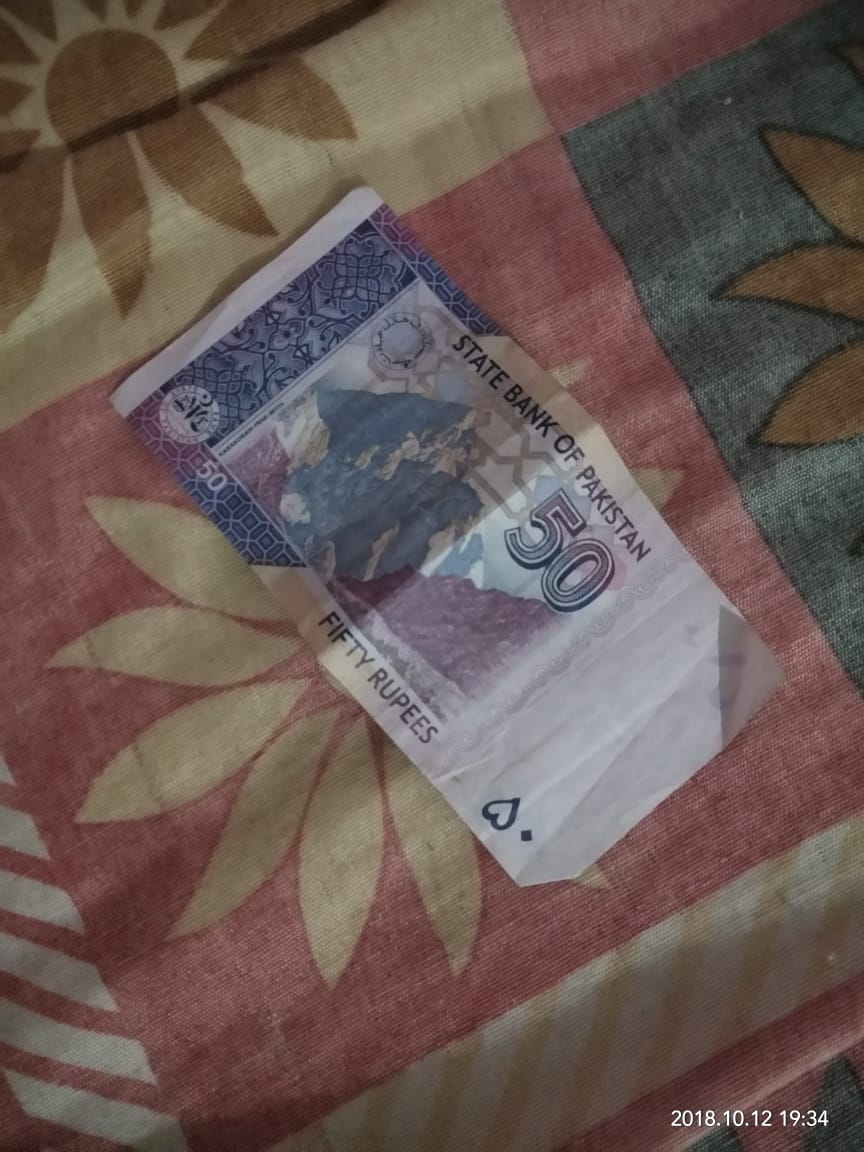50 rupee: (99, 181, 787, 887)
